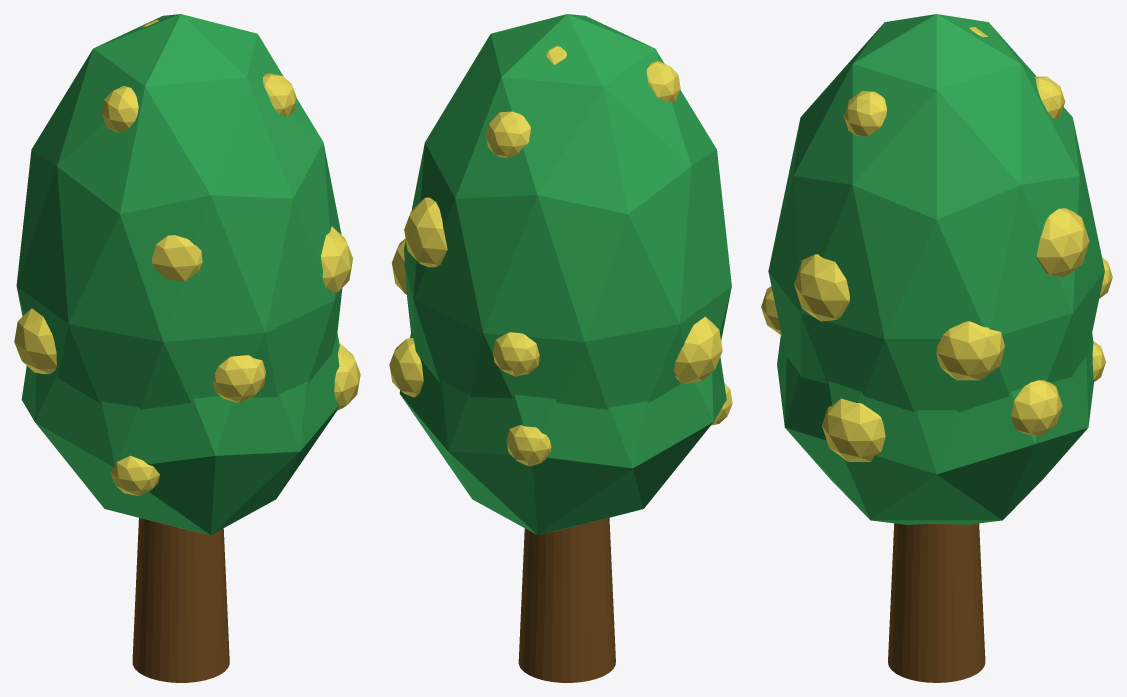
File: TreeModel.fbx
3 views of the same model, side by side, from view 1: azimuth 30°, elevation 25°; view 2: azimuth 150°, elevation 25°; view 3: azimuth 270°, elevation 25° (orthographic).
Visible parts, largest first — view 1: Leaver.024, Leaver.039, Trunk, Leaver.005, Leaver.025, Leaver.004, Leaver.003, Leaver.052, Leaver.038, Leaver.049, Leaver.037; view 2: Leaver.024, Leaver.039, Trunk, Leaver.031, Leaver.005, Leaver.036, Leaver.030, Leaver.047, Leaver.045, Leaver.038, Leaver.010; view 3: Leaver.024, Leaver.039, Trunk, Leaver.010, Leaver.049, Leaver.003, Leaver.031, Leaver.047, Leaver.037, Leaver.036, Leaver.025.
Boxes of the visible parts, x1=… form: Leaver.024: x1=16, y1=14, x2=342, y2=409; Leaver.039: x1=21, y1=333, x2=339, y2=534; Trunk: x1=132, y1=518, x2=229, y2=682; Leaver.005: x1=14, y1=308, x2=56, y2=373; Leaver.025: x1=213, y1=355, x2=265, y2=402; Leaver.004: x1=151, y1=235, x2=202, y2=281; Leaver.003: x1=321, y1=226, x2=352, y2=293; Leaver.052: x1=110, y1=455, x2=159, y2=495; Leaver.038: x1=101, y1=86, x2=138, y2=132; Leaver.049: x1=334, y1=343, x2=360, y2=410; Leaver.037: x1=263, y1=73, x2=296, y2=117; Leaver.024: x1=404, y1=14, x2=731, y2=409; Leaver.039: x1=399, y1=333, x2=726, y2=534; Trunk: x1=518, y1=518, x2=615, y2=682; Leaver.031: x1=404, y1=197, x2=447, y2=267; Leaver.005: x1=674, y1=316, x2=722, y2=383; Leaver.036: x1=485, y1=111, x2=530, y2=157; Leaver.030: x1=493, y1=332, x2=539, y2=376; Leaver.047: x1=389, y1=337, x2=423, y2=397; Leaver.045: x1=506, y1=425, x2=551, y2=466; Leaver.038: x1=646, y1=61, x2=680, y2=102; Leaver.010: x1=392, y1=238, x2=406, y2=294; Leaver.024: x1=768, y1=14, x2=1104, y2=524; Leaver.039: x1=777, y1=333, x2=1094, y2=524; Trunk: x1=888, y1=523, x2=985, y2=682; Leaver.010: x1=936, y1=321, x2=1004, y2=380; Leaver.049: x1=822, y1=398, x2=885, y2=461; Leaver.003: x1=794, y1=254, x2=849, y2=321; Leaver.031: x1=1036, y1=208, x2=1089, y2=277; Leaver.047: x1=1011, y1=380, x2=1062, y2=436; Leaver.037: x1=844, y1=91, x2=886, y2=136; Leaver.036: x1=1034, y1=76, x2=1065, y2=119; Leaver.025: x1=761, y1=286, x2=781, y2=335.
Size of the model in its own units: 362 by 367 by 736.
